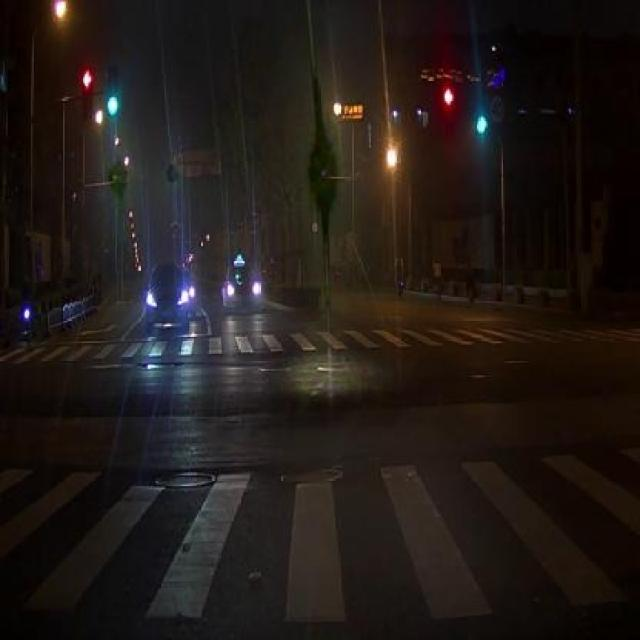forb_speed_over_40: (489, 89, 509, 131)
